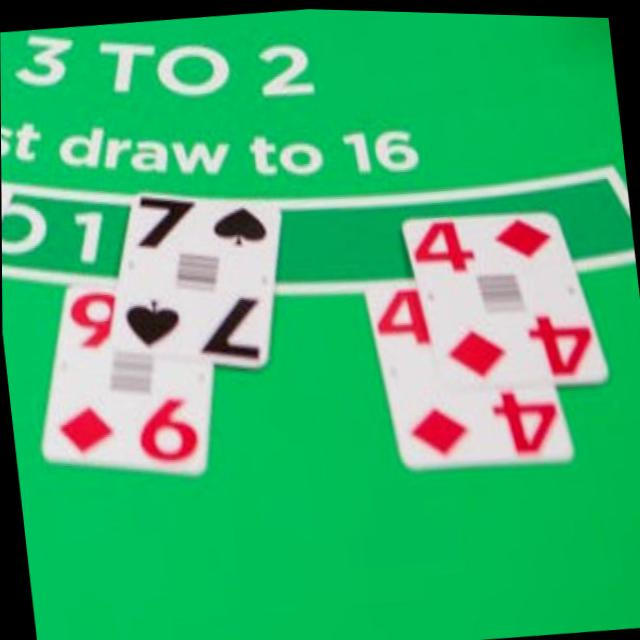Card-4: (360, 278, 573, 469), (400, 208, 608, 385)
Card-7: (111, 190, 280, 368)
Card-9: (43, 282, 210, 471)
